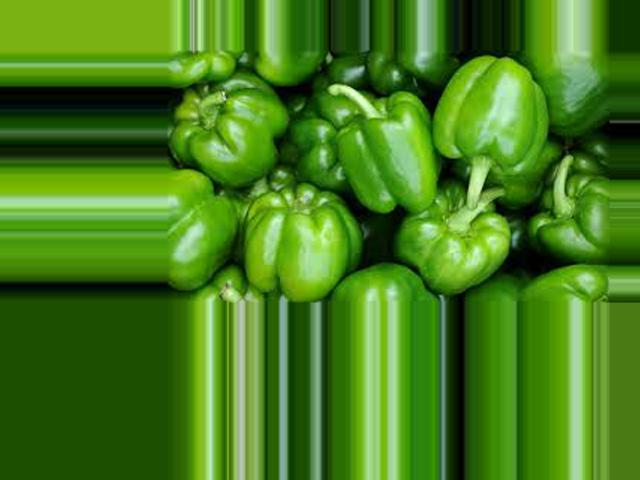bell_pepper: (511, 50, 611, 132)
